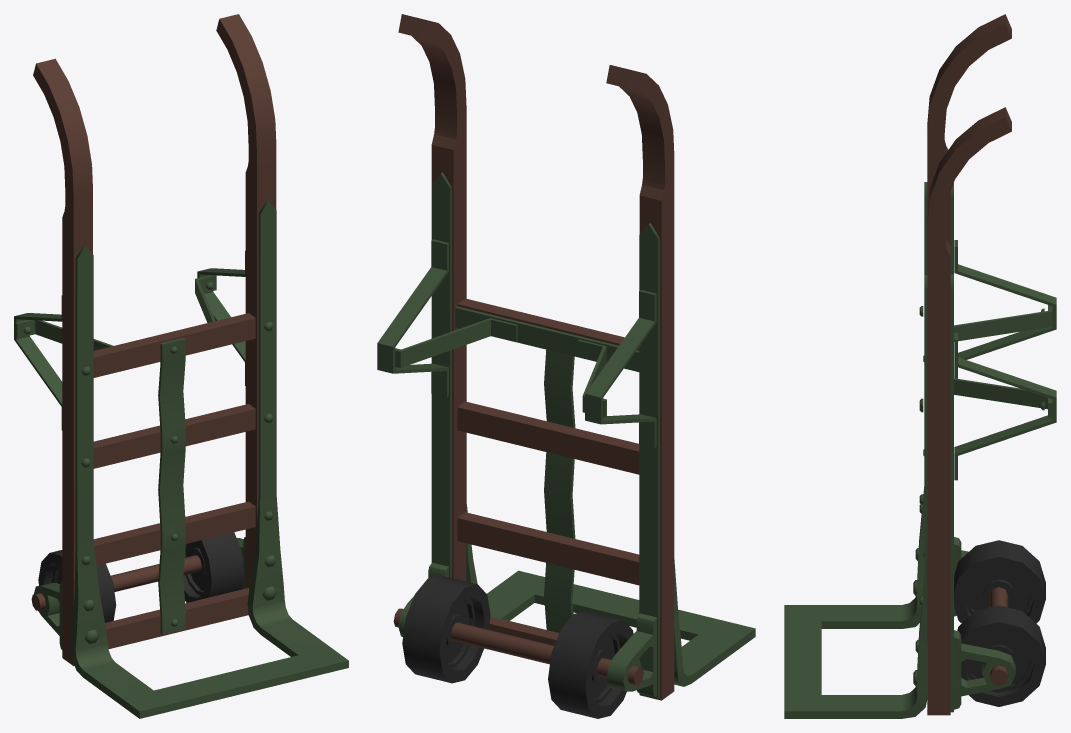
File: Hand Trolley.fbx
3 views of the same model, side by side, from view 1: azimuth 30°, elevation 25°; view 2: azimuth 150°, elevation 25°; view 3: azimuth 270°, elevation 25° (orthographic). The views are drawn at different scales.
Visible parts, largest first — view 1: pCube27; view 2: pCube27; view 3: pCube27.
Part boxes in pixels (x1,y1,x2,y2): pCube27: [14, 14, 348, 718]; pCube27: [377, 14, 755, 718]; pCube27: [784, 14, 1056, 718].
Bounding box in the file's own units: 109 × 282 × 116.
